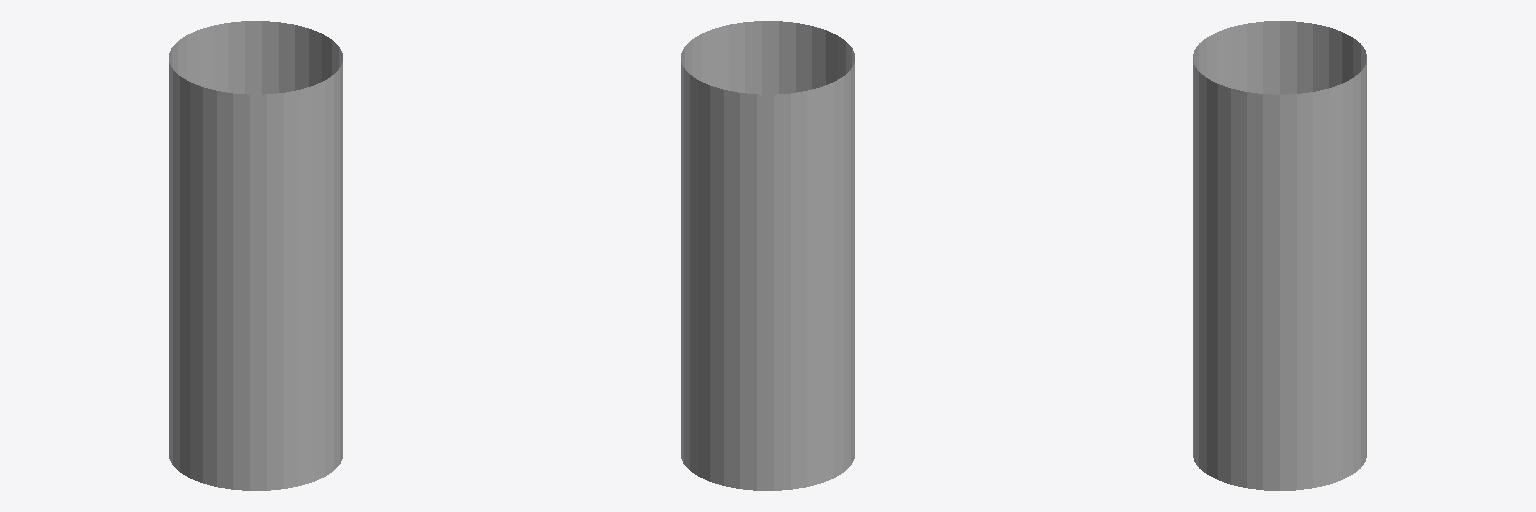
File: tongroad.obj
3 renders of one model, left to right at view 1: azimuth 30°, elevation 25°; view 2: azimuth 150°, elevation 25°; view 3: azimuth 270°, elevation 25°, orthographic.
Parts seen in each view (by area): view 1: Cylinder_Cylinder.001; view 2: Cylinder_Cylinder.001; view 3: Cylinder_Cylinder.001.
Part boxes in pixels (x1,y1,x2,y2): Cylinder_Cylinder.001: (169, 21, 342, 490); Cylinder_Cylinder.001: (681, 21, 854, 490); Cylinder_Cylinder.001: (1193, 21, 1366, 490).
Bounding box in the file's own units: 40 × 100 × 40.